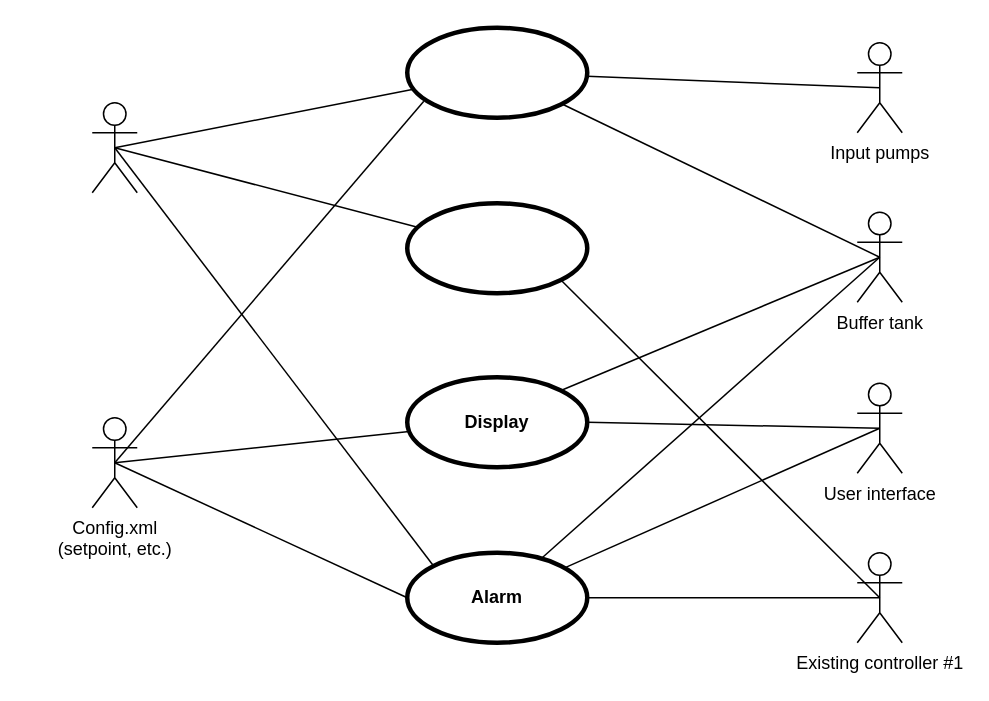
This 989x701 diagram has some shape labels left out. The shapes that lost their labels are listed below. From the top down, each one's box as (x1, y1, x2, y2) in pixels, then its label:
(404, 25, 589, 119): Control
(91, 101, 137, 193): Output pumps (existing controller #2)
(404, 200, 589, 295): Communicate
